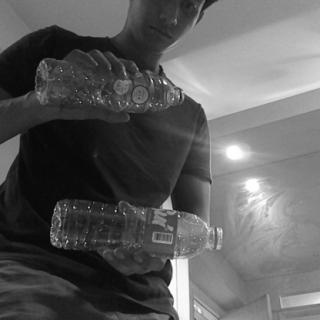plastic_bottles: (51, 202, 222, 250), (32, 58, 184, 110)
